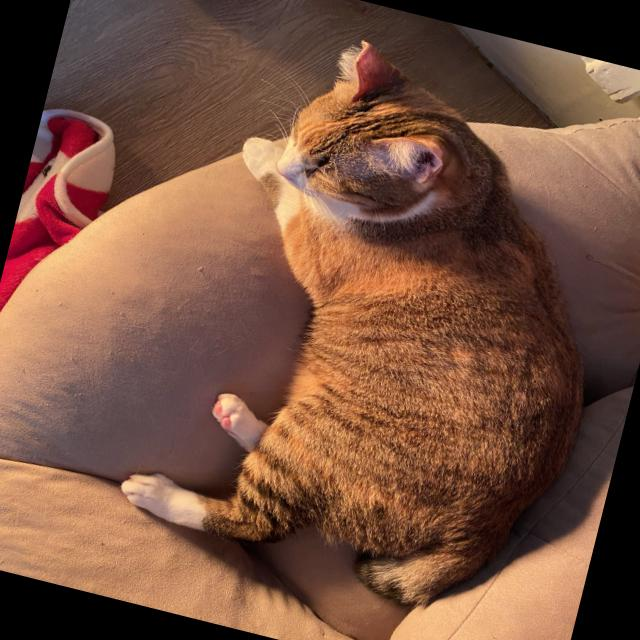cat2: (132, 9, 640, 636)
